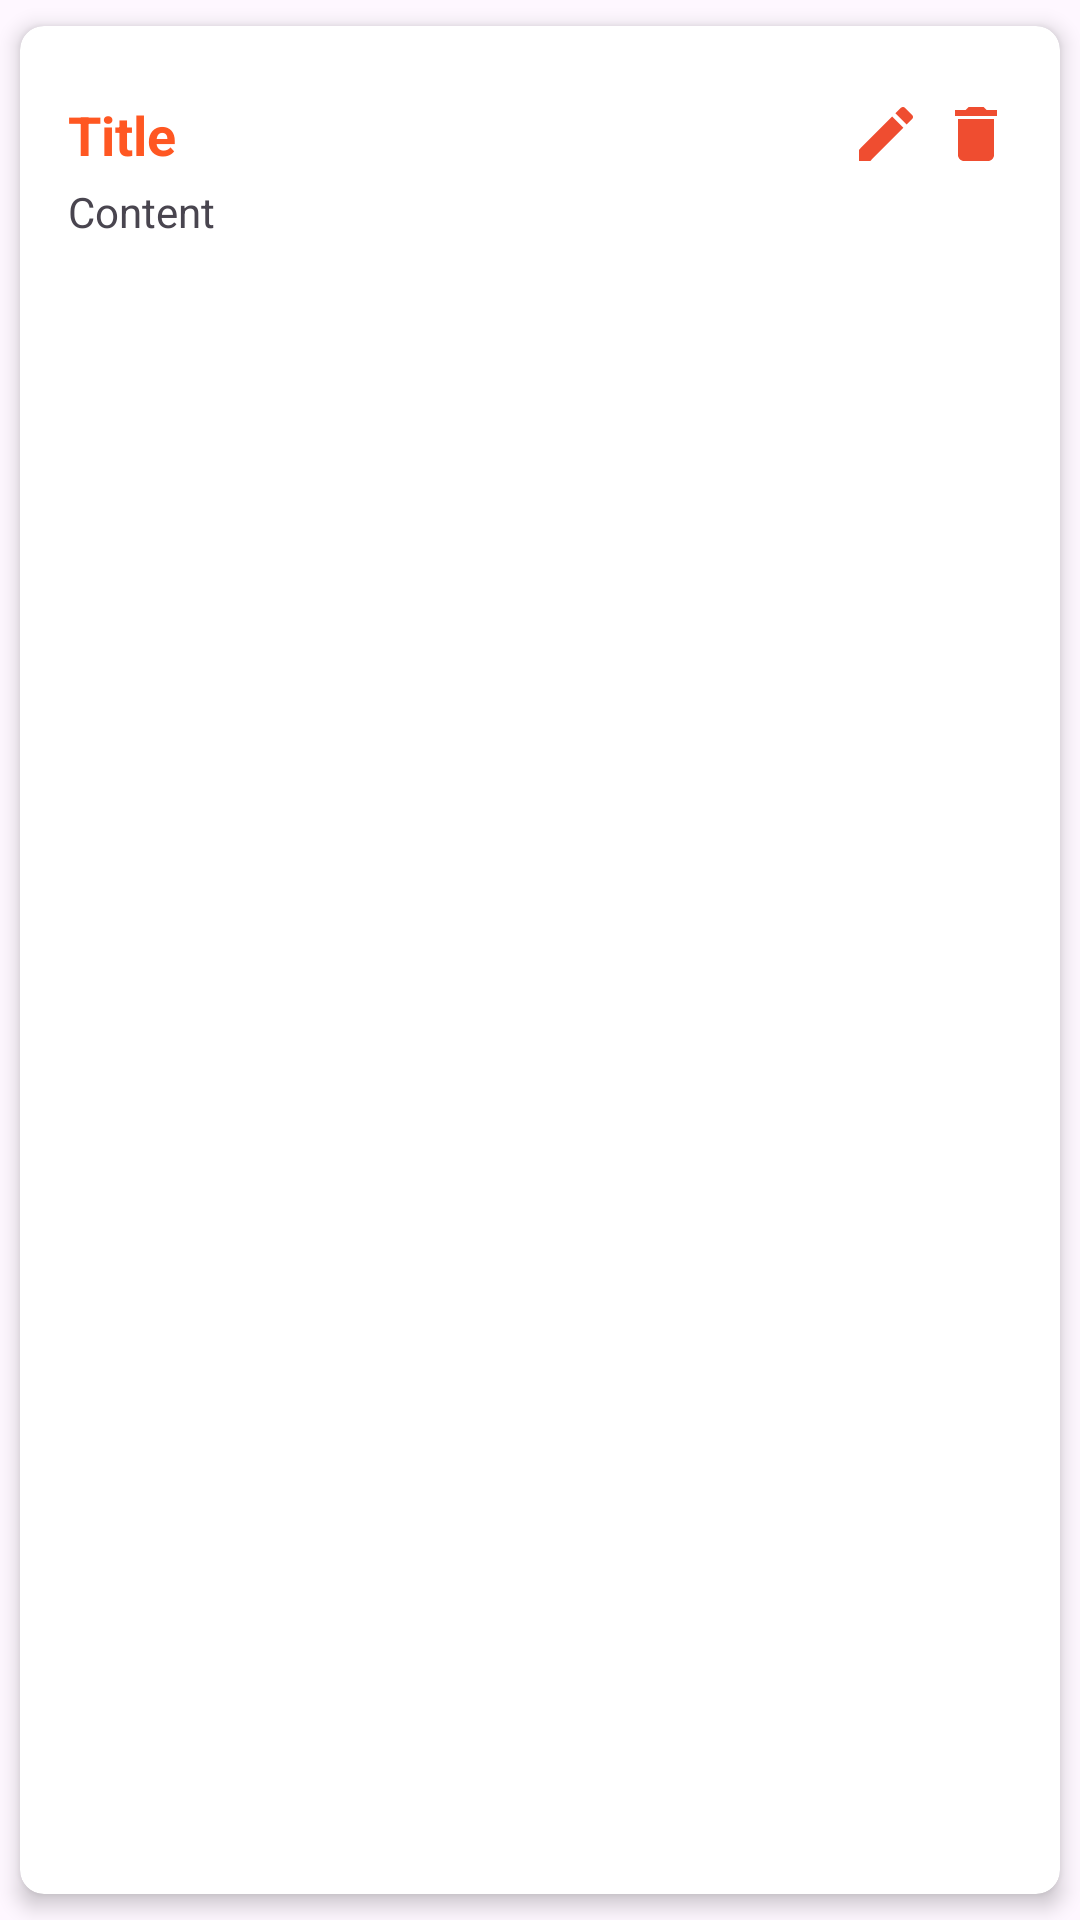

Screen size 1080 × 1920. Icon name, then its box in pixels as (x1, y1, x2, y2):
delete: (955, 107, 997, 161)
edit: (859, 107, 913, 161)
